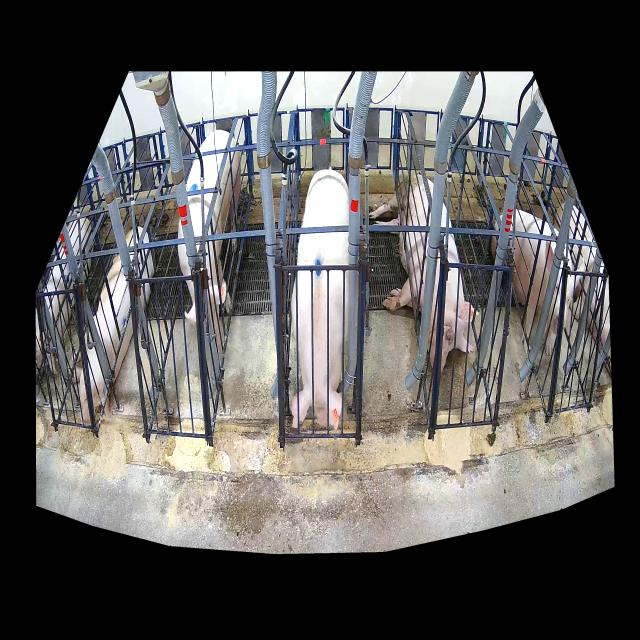pig: (369, 174, 475, 375), (72, 226, 154, 423), (291, 169, 349, 430), (178, 130, 240, 346), (492, 210, 584, 354)
